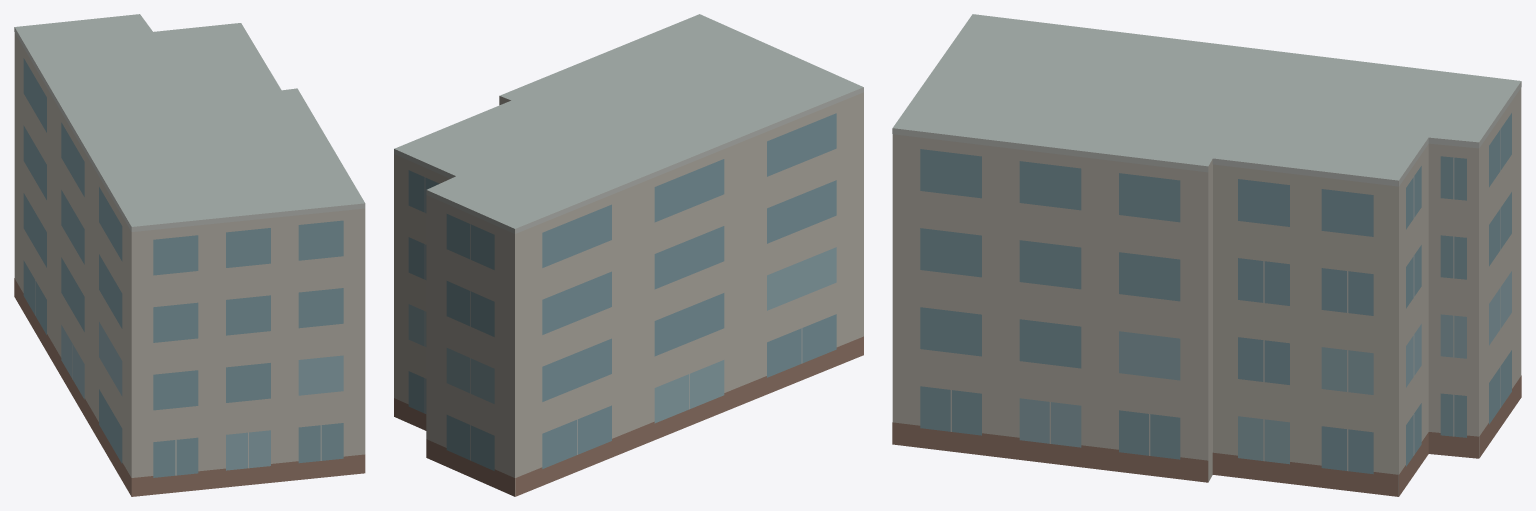
The model's file is survey-upis-32689235.glb.
3 views of the same model, side by side, from view 1: azimuth 30°, elevation 25°; view 2: azimuth 150°, elevation 25°; view 3: azimuth 270°, elevation 25° (orthographic). The views are drawn at different scales.
Visible parts, largest first — view 1: survey-upis-32689235.tmp; view 2: survey-upis-32689235.tmp; view 3: survey-upis-32689235.tmp.
Part boxes in pixels (x1,y1,x2,y2): survey-upis-32689235.tmp: [14, 14, 365, 496]; survey-upis-32689235.tmp: [394, 14, 863, 496]; survey-upis-32689235.tmp: [892, 14, 1521, 496].
Bounding box in the file's own units: 14.47 × 12.8 × 23.08.
